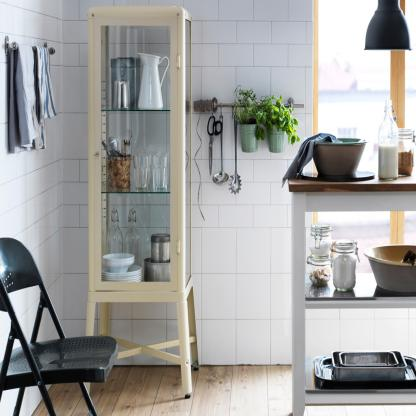Chair: (0, 235, 120, 416)
